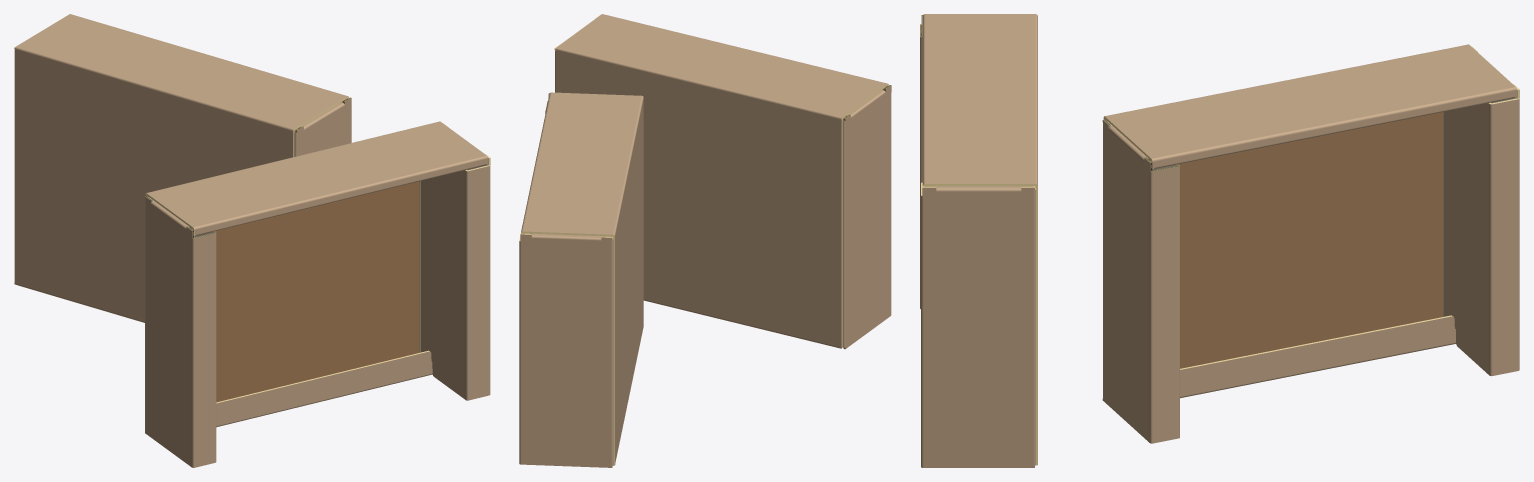
Rendered from TroquelMesaFeria.gltf.
3 renders of one model, left to right at view 1: azimuth 30°, elevation 25°; view 2: azimuth 150°, elevation 25°; view 3: azimuth 270°, elevation 25°, orthographic. The views are drawn at different scales.
Parts seen in each view (by area): view 1: TQPATA222_ARD-node; view 2: TQPATA222_ARD-node; view 3: TQPATA222_ARD-node.
Boxes of the visible parts, box(x1,y1,x2,y2) form: TQPATA222_ARD-node: box(14, 14, 490, 467); TQPATA222_ARD-node: box(519, 14, 891, 467); TQPATA222_ARD-node: box(920, 14, 1519, 467).
Size of what is drawn, in the model's own units: 1.32 by 1.01 by 1.94.
Materials: 9 (3 with a texture image).
